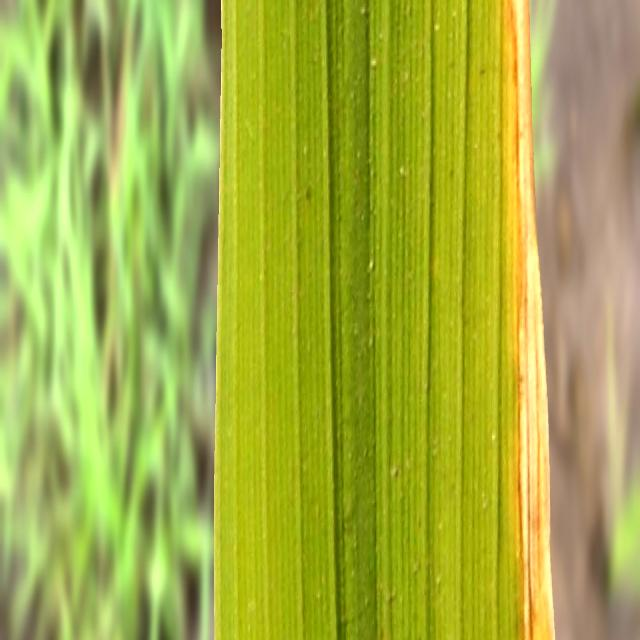BLS: (508, 0, 555, 640), (509, 0, 555, 640)
